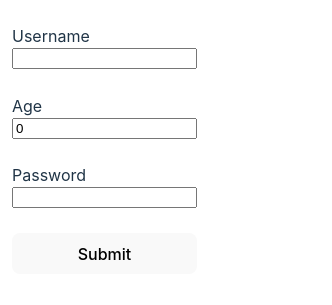
it: SubscribeForm › should show age error if no age is provided
In the field labelled "Username": (104, 58) x1=12 y1=48 x2=197 y2=69, type "fthomasvp"
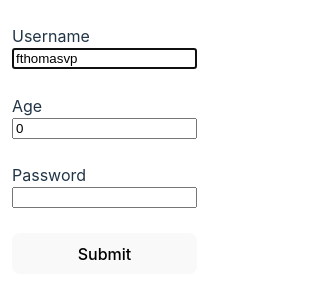
Click the button "Submit": (104, 254) x1=12 y1=233 x2=197 y2=274
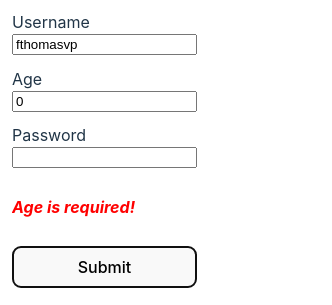
Expected: the text "Age is required!" is shown, x1=12 y1=197 x2=135 y2=217
